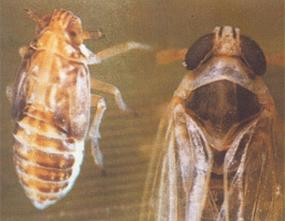Delphacidae: (4, 7, 152, 209), (138, 24, 285, 221)
